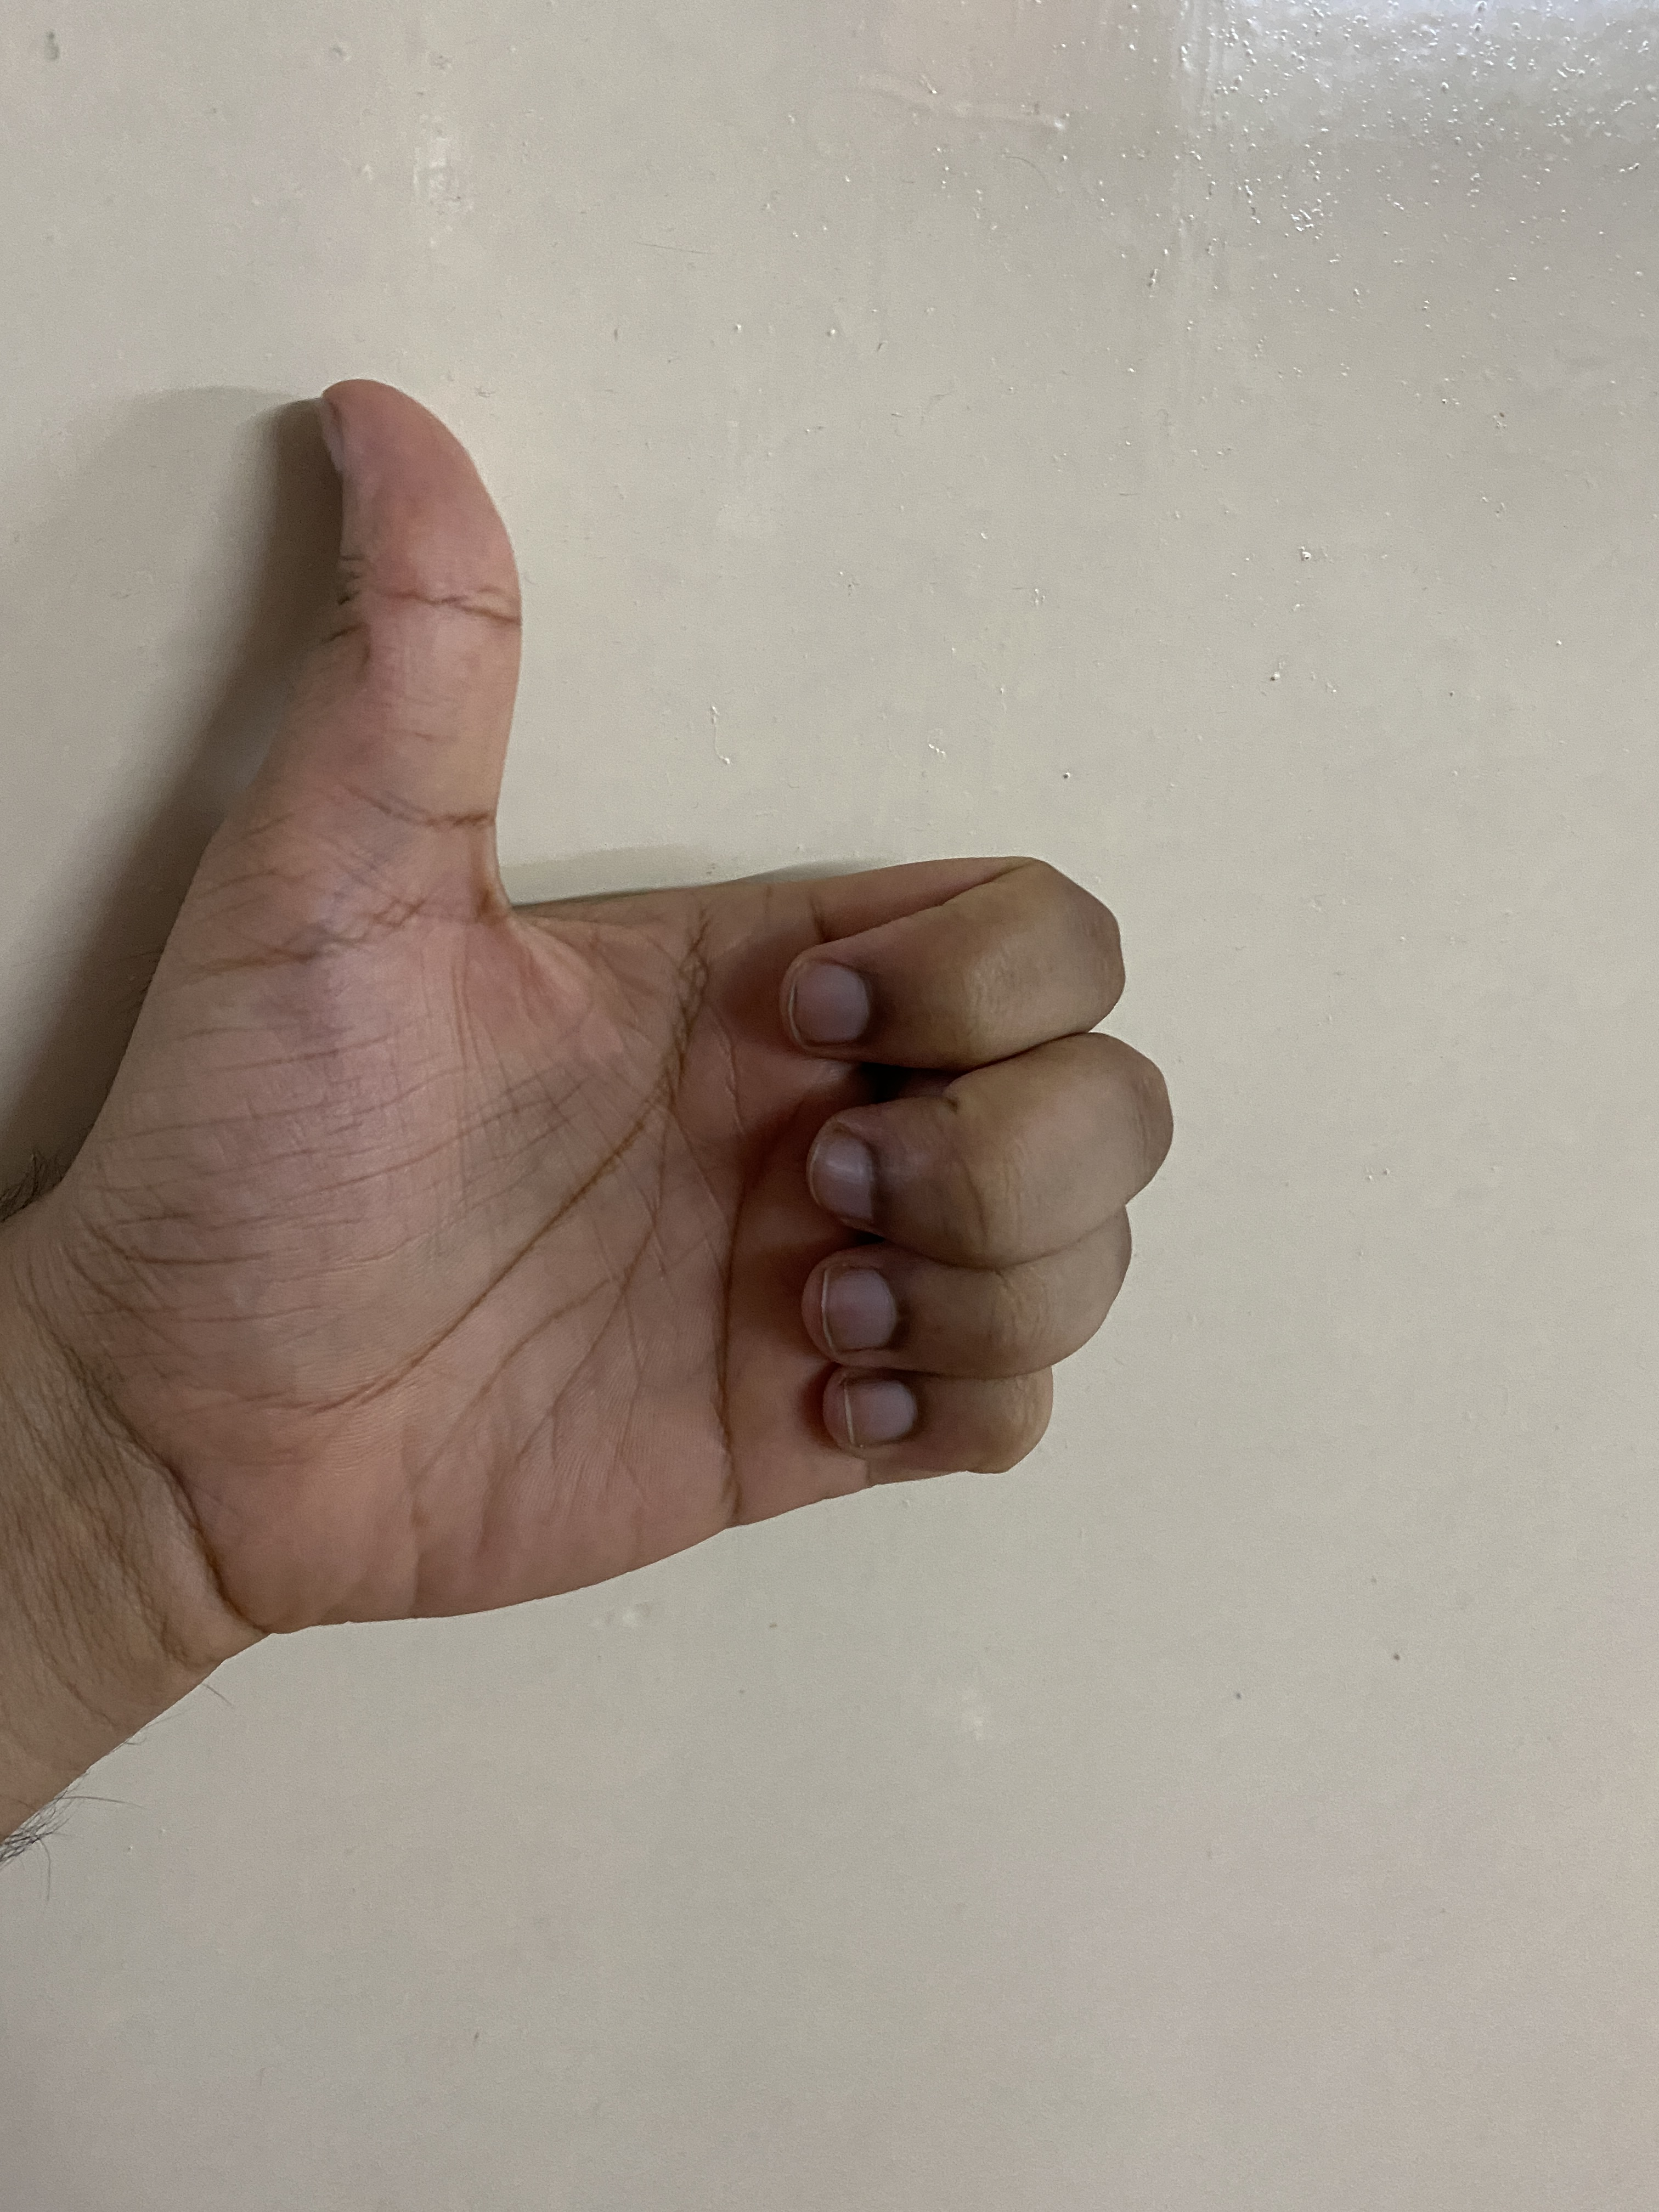up: (127, 294, 1304, 1763)
